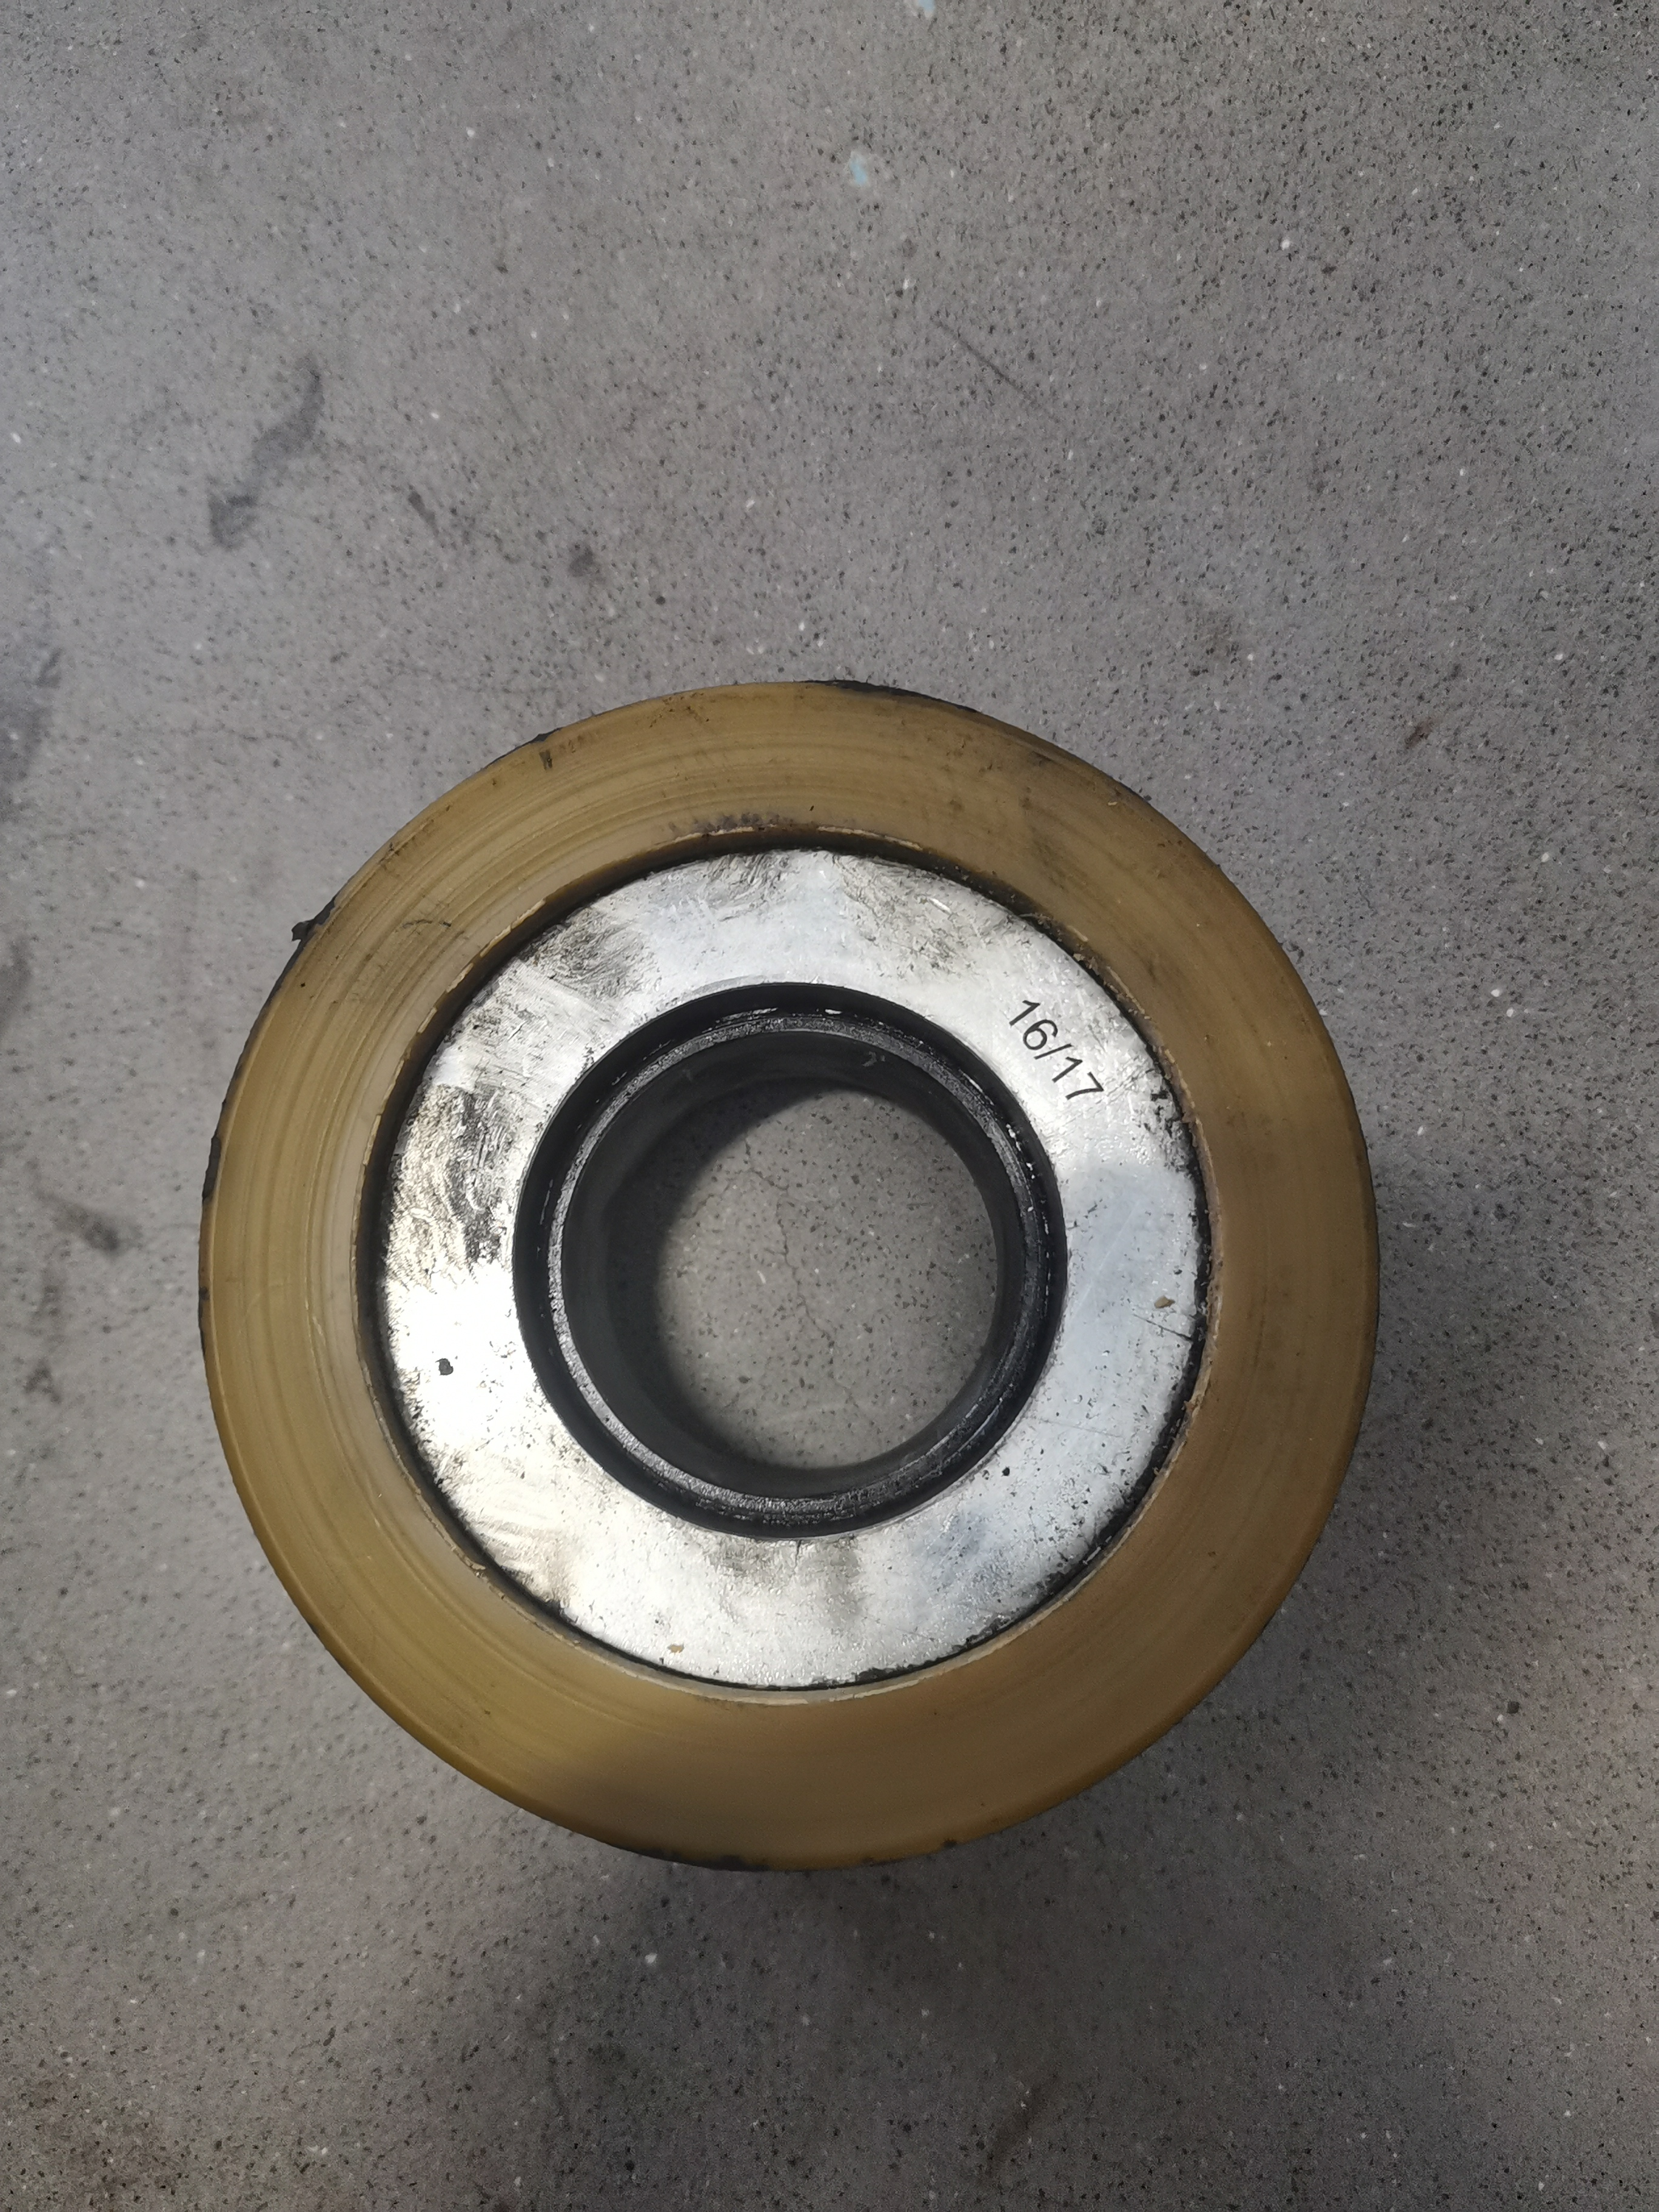bad_wheel: (538, 998, 1105, 1522), (331, 988, 498, 1447), (1073, 916, 1262, 1291)
